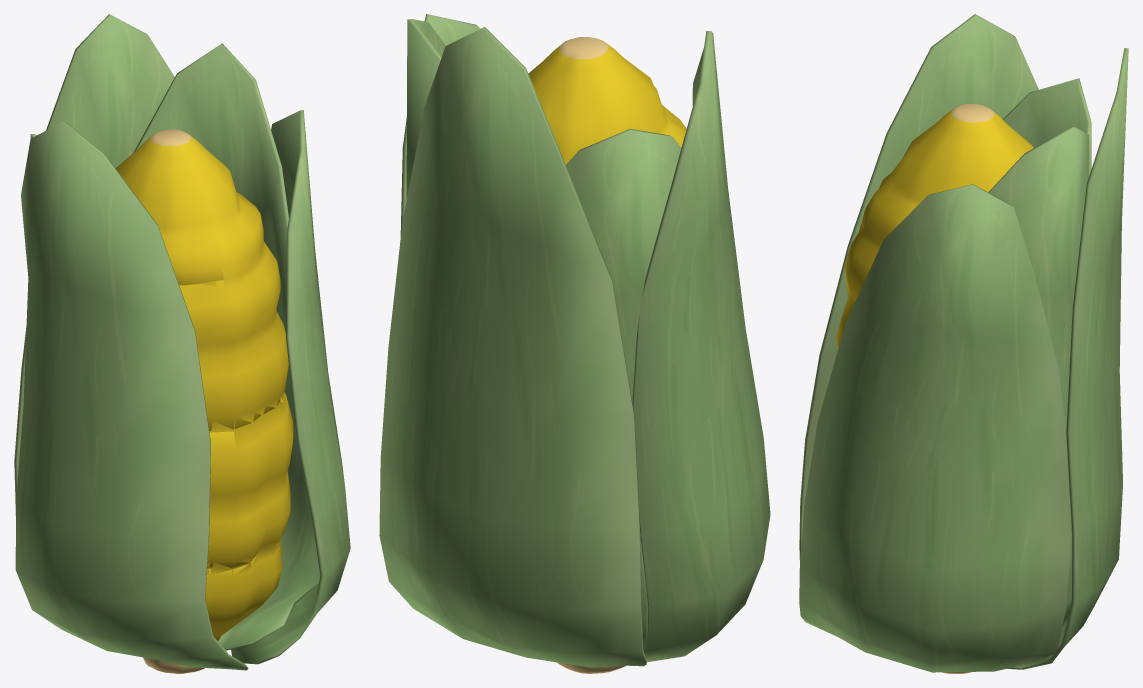
Rendered from corn.fbx.
3 renders of one model, left to right at view 1: azimuth 30°, elevation 25°; view 2: azimuth 150°, elevation 25°; view 3: azimuth 270°, elevation 25°, orthographic. The views are drawn at different scales.
Visible parts, largest first — view 1: corn.003, corn, corn.004, corn.005, corn.006, corn .001; view 2: corn.003, corn, corn.004; view 3: corn, corn.004, corn.003.
Boxes of the visible parts, left/top/right/bottom form: corn.003: left=14, top=14, right=324, bottom=670; corn: left=17, top=15, right=350, bottom=671; corn.004: left=115, top=129, right=262, bottom=284; corn.005: left=179, top=280, right=280, bottom=430; corn.006: left=207, top=398, right=283, bottom=567; corn .001: left=143, top=542, right=278, bottom=673; corn.003: left=400, top=14, right=770, bottom=667; corn: left=379, top=14, right=703, bottom=671; corn.004: left=546, top=37, right=686, bottom=164; corn: left=799, top=14, right=1128, bottom=673; corn.004: left=876, top=104, right=1033, bottom=191; corn.003: left=928, top=14, right=1076, bottom=667.
Bounding box in the file's own units: 16.01 × 30.14 × 14.53.
4 materials, 2 textured.
